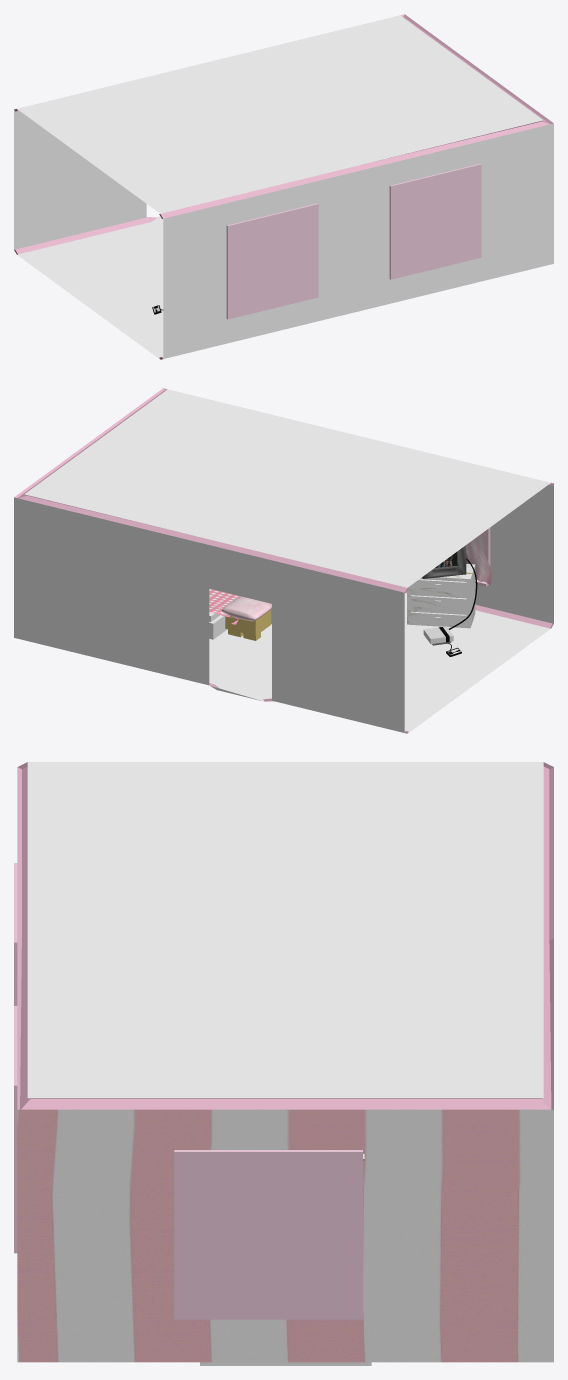
Rendered from ceciliabedroom.glb.
The picture shows the model from 3 angles, top to bottom: view 1: azimuth 30°, elevation 25°; view 2: azimuth 150°, elevation 25°; view 3: azimuth 270°, elevation 25°; orthographic projection. The views are drawn at different scales.
Parts seen in each view (by area): view 1: Cube, Cube.002, Cube.024; view 2: Cube, Cube.019, Cube.003, Cube.011, Plane.006, Cube.020, Plane.002, Cube.021; view 3: Cube, Cube.028, Cube.002.
Boxes of the visible parts, x1,y1,x2,y2 form: Cube: [14, 14, 553, 359]; Cube.002: [389, 163, 481, 279]; Cube.024: [226, 203, 318, 319]; Cube: [14, 388, 553, 733]; Cube.019: [407, 564, 475, 628]; Cube.003: [225, 609, 271, 640]; Cube.011: [221, 596, 271, 621]; Plane.006: [466, 531, 491, 584]; Cube.020: [422, 545, 466, 578]; Plane.002: [209, 588, 239, 624]; Cube.021: [423, 626, 453, 645]; Cube: [17, 762, 553, 1362]; Cube.028: [174, 1150, 362, 1319]; Cube.002: [14, 1006, 17, 1253].
Size of the model in its own units: 10.73 by 3.84 by 7.1.
Materials: 31 (10 with a texture image).
